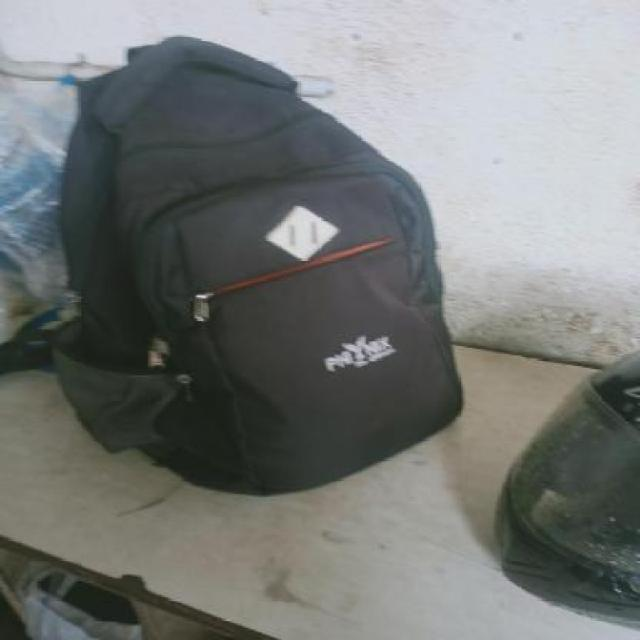backpack: (44, 29, 470, 502)
